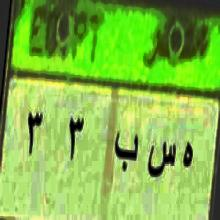3: (66, 103, 87, 177), (25, 105, 44, 167)
baa: (112, 119, 140, 184)
haa: (181, 129, 196, 185)
seen: (144, 123, 176, 208)
